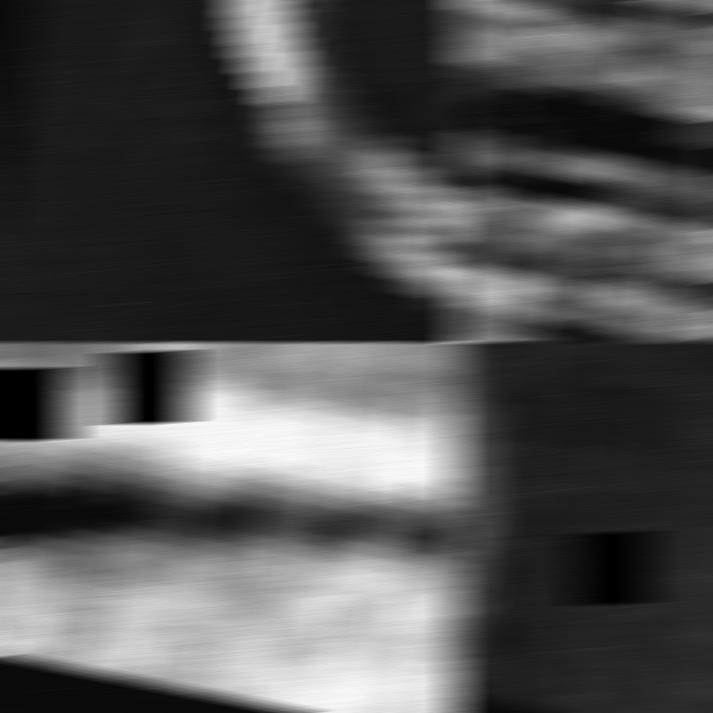Airbag: (0, 0, 464, 341), (448, 342, 713, 712)
